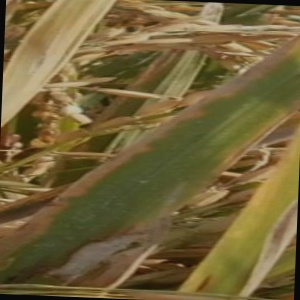Leaf_Blast: (200, 61, 277, 157), (234, 194, 296, 297)
